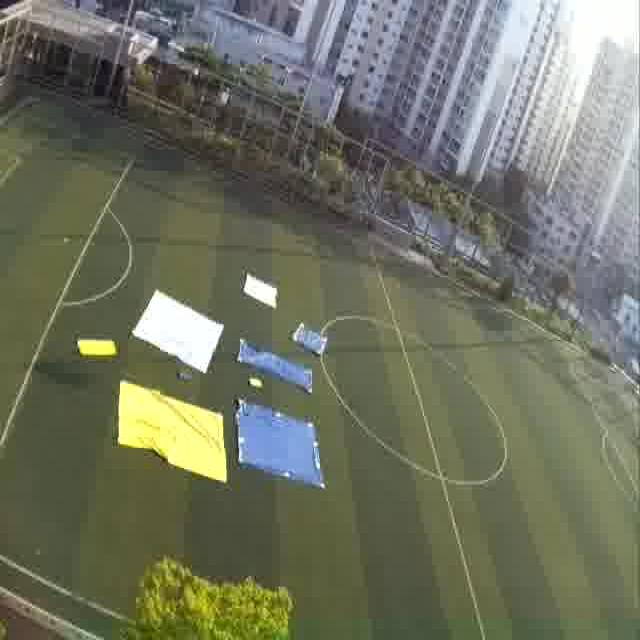danger: (234, 397, 332, 498), (286, 319, 334, 358), (240, 341, 290, 373)
safety: (131, 282, 228, 379), (238, 265, 287, 313)
warning: (118, 374, 232, 492), (74, 330, 118, 365)
